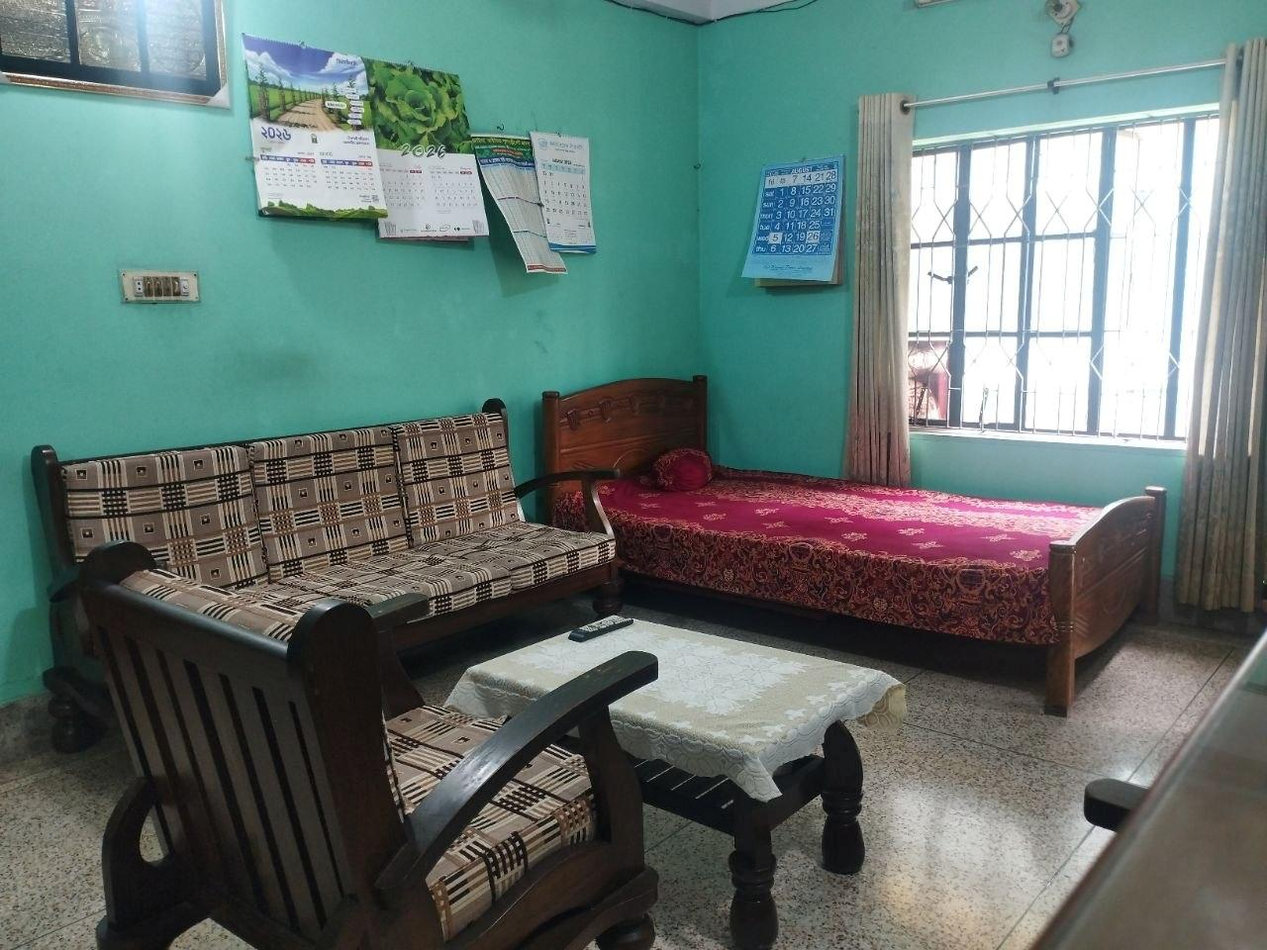Light: (442, 613, 910, 950), (1037, 0, 1085, 32)
Photo: (242, 36, 381, 137)
Pillow: (634, 446, 726, 490)
Remote: (339, 56, 470, 145), (553, 605, 654, 649)
Window: (910, 113, 1229, 448)
